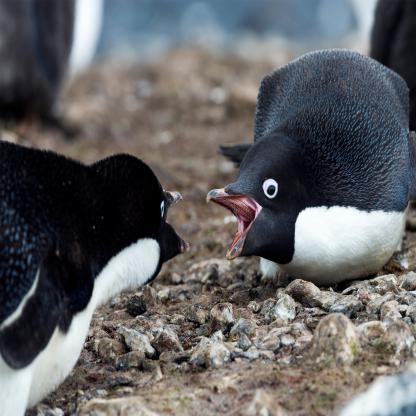Penguin: (206, 34, 416, 312), (0, 131, 192, 408)
